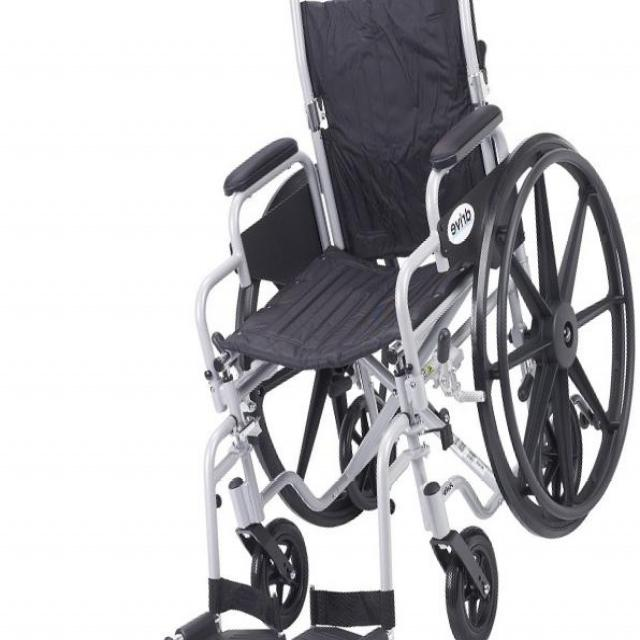wheelchair: (163, 1, 640, 640)
